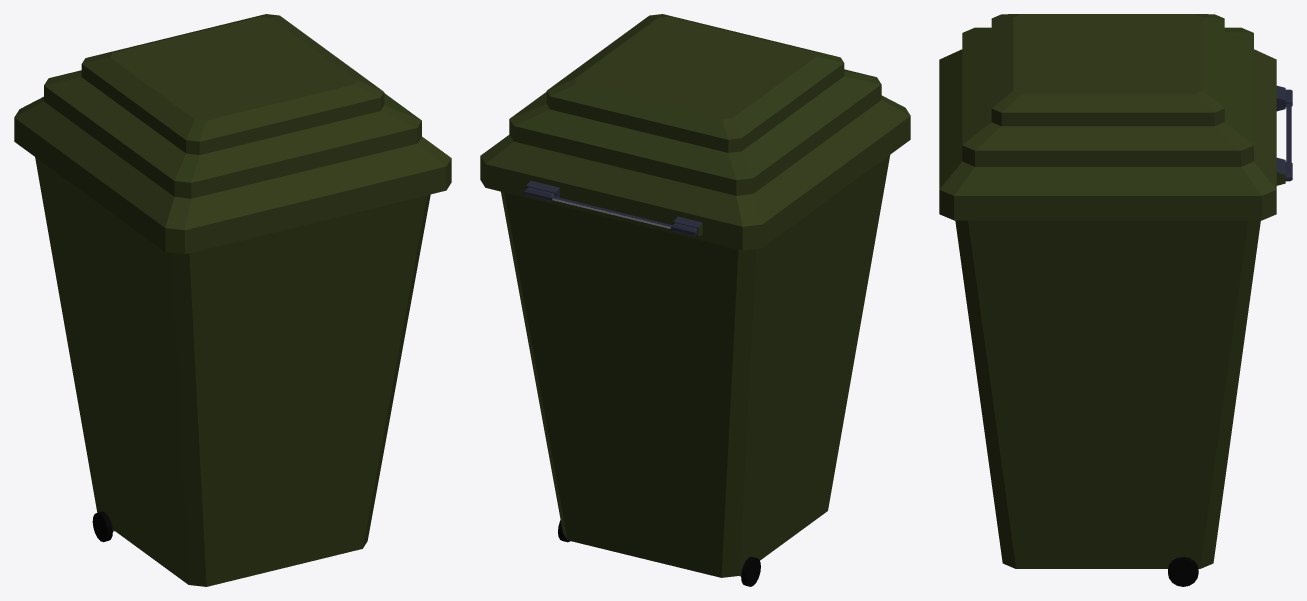
Rendered from TrashGreen.fbx.
3 renders of one model, left to right at view 1: azimuth 30°, elevation 25°; view 2: azimuth 150°, elevation 25°; view 3: azimuth 270°, elevation 25°, orthographic. The views are drawn at different scales.
Parts seen in each view (by area): view 1: Cube.001; view 2: Cube.001; view 3: Cube.001.
Part boxes in pixels (bbox=[...]): Cube.001: bbox=[14, 14, 451, 586]; Cube.001: bbox=[480, 14, 910, 586]; Cube.001: bbox=[939, 14, 1292, 586].
Bounding box in the file's own units: 320 × 508 × 335.
